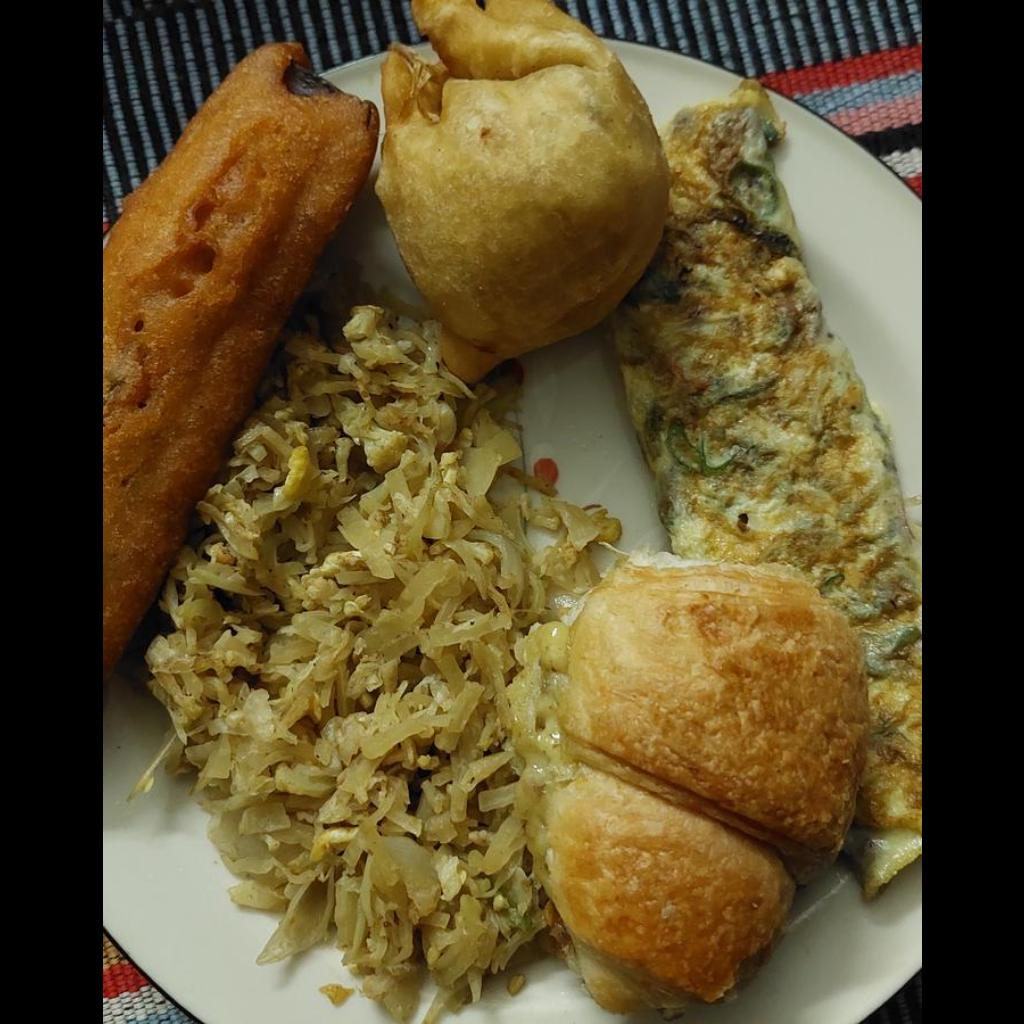beguni: (102, 43, 363, 679)
egg-poached: (607, 82, 920, 891)
puri: (555, 568, 863, 1018), (371, 1, 676, 377)
vaji: (128, 302, 589, 1018)
